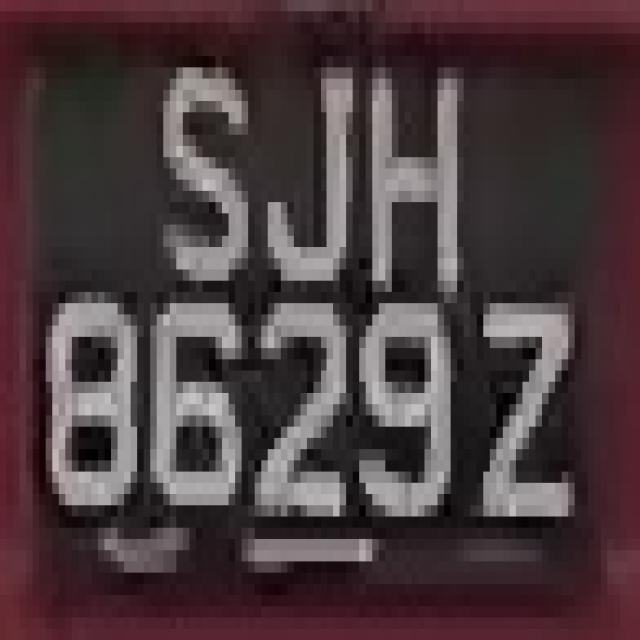2: (235, 281, 372, 550)
6: (137, 269, 242, 562)
8: (26, 247, 137, 561)
9: (359, 281, 470, 539)
H: (353, 34, 483, 314)
J: (261, 22, 366, 292)
S: (156, 45, 255, 314)
Z: (457, 270, 568, 572)
